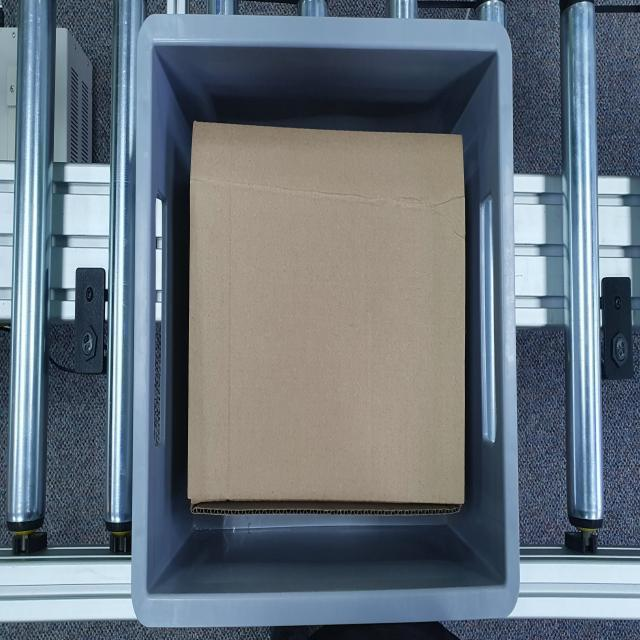box: (186, 120, 467, 514)
